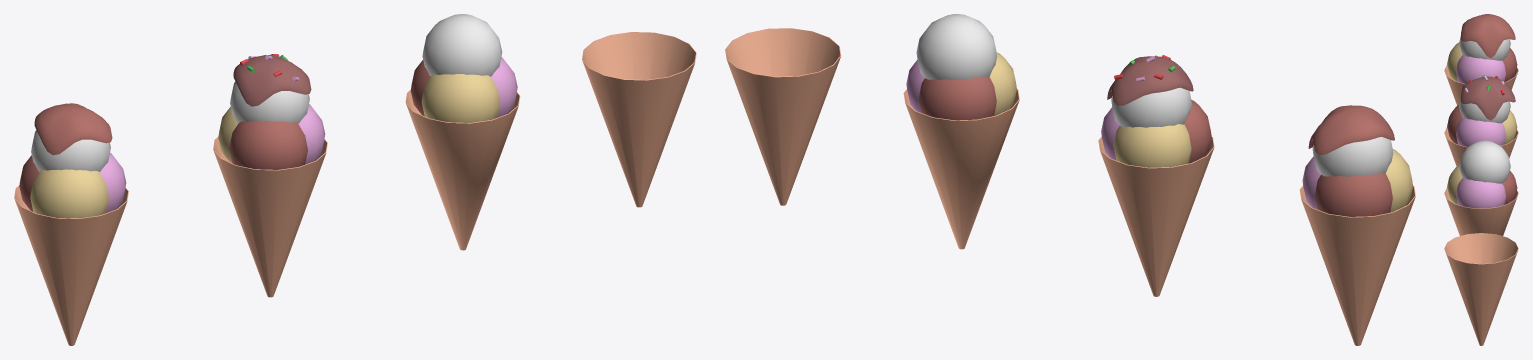
File: dondugmaaaa.fbx
The picture shows the model from 3 angles, left to right: view 1: azimuth 30°, elevation 25°; view 2: azimuth 150°, elevation 25°; view 3: azimuth 270°, elevation 25°; orthographic projection. The views are drawn at different scales.
Parts seen in each view (by area): view 1: lvl4ıcecream01_, lvl3icecream01_, lvl2ıcecream01_, lvl1ıcecream01_; view 2: lvl4ıcecream01_, lvl3icecream01_, lvl2ıcecream01_, lvl1ıcecream01_; view 3: lvl2ıcecream01_, lvl1ıcecream01_, lvl4ıcecream01_, lvl3icecream01_.
Part boxes in pixels (<box>): lvl4ıcecream01_: <box>213,54,327,297</box>; lvl3icecream01_: <box>14,103,128,345</box>; lvl2ıcecream01_: <box>405,14,520,250</box>; lvl1ıcecream01_: <box>582,32,696,207</box>; lvl4ıcecream01_: <box>1098,55,1214,296</box>; lvl3icecream01_: <box>1299,105,1415,345</box>; lvl2ıcecream01_: <box>903,14,1019,249</box>; lvl1ıcecream01_: <box>725,28,841,205</box>; lvl2ıcecream01_: <box>1444,140,1518,235</box>; lvl1ıcecream01_: <box>1444,233,1518,345</box>; lvl4ıcecream01_: <box>1444,75,1518,166</box>; lvl3icecream01_: <box>1444,14,1518,105</box>.
Size of the model in its own units: 466 by 159 by 69.97.
